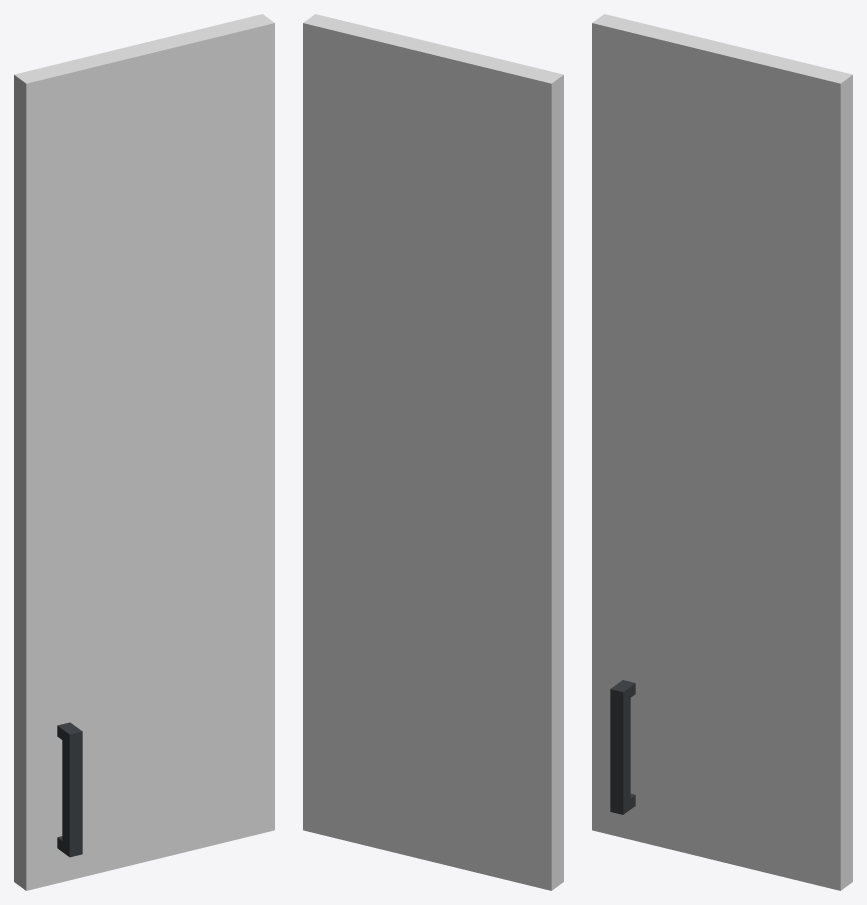
File: Door1_C1_13.fbx
3 views of the same model, side by side, from view 1: azimuth 30°, elevation 25°; view 2: azimuth 150°, elevation 25°; view 3: azimuth 330°, elevation 25° (orthographic).
Visible parts, largest first — view 1: Door1_C1_13; view 2: Door1_C1_13; view 3: Door1_C1_13.
Boxes of the visible parts, x1,y1,x2,y2 form: Door1_C1_13: (14, 14, 274, 890); Door1_C1_13: (303, 14, 563, 890); Door1_C1_13: (592, 14, 852, 890).
Bounding box in the file's own units: 29 × 90 × 5.03.
